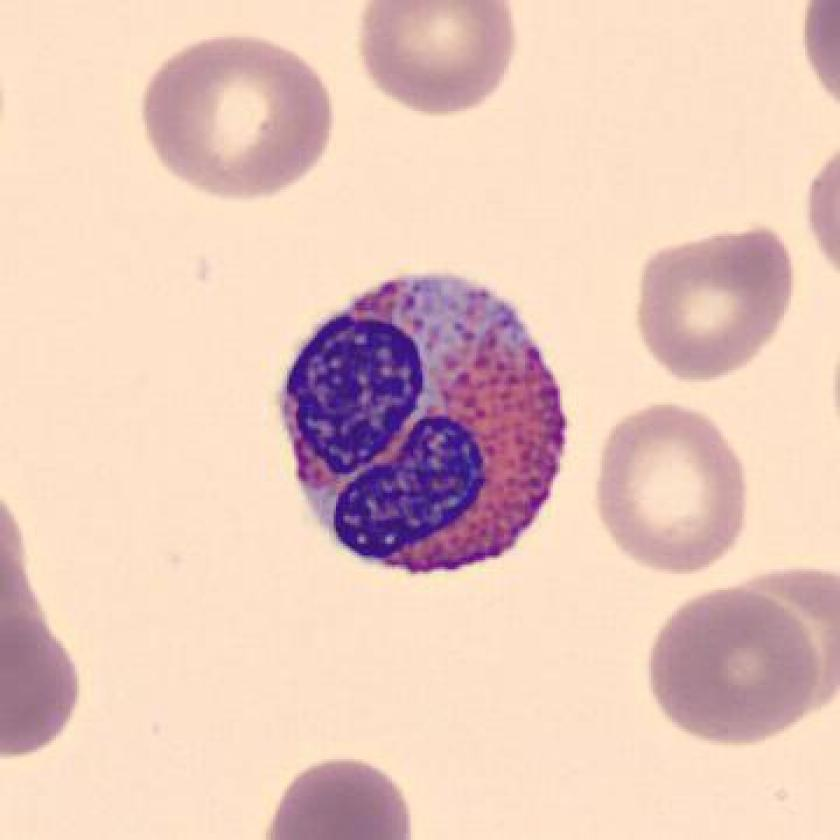eosinophil: (265, 258, 580, 593)
